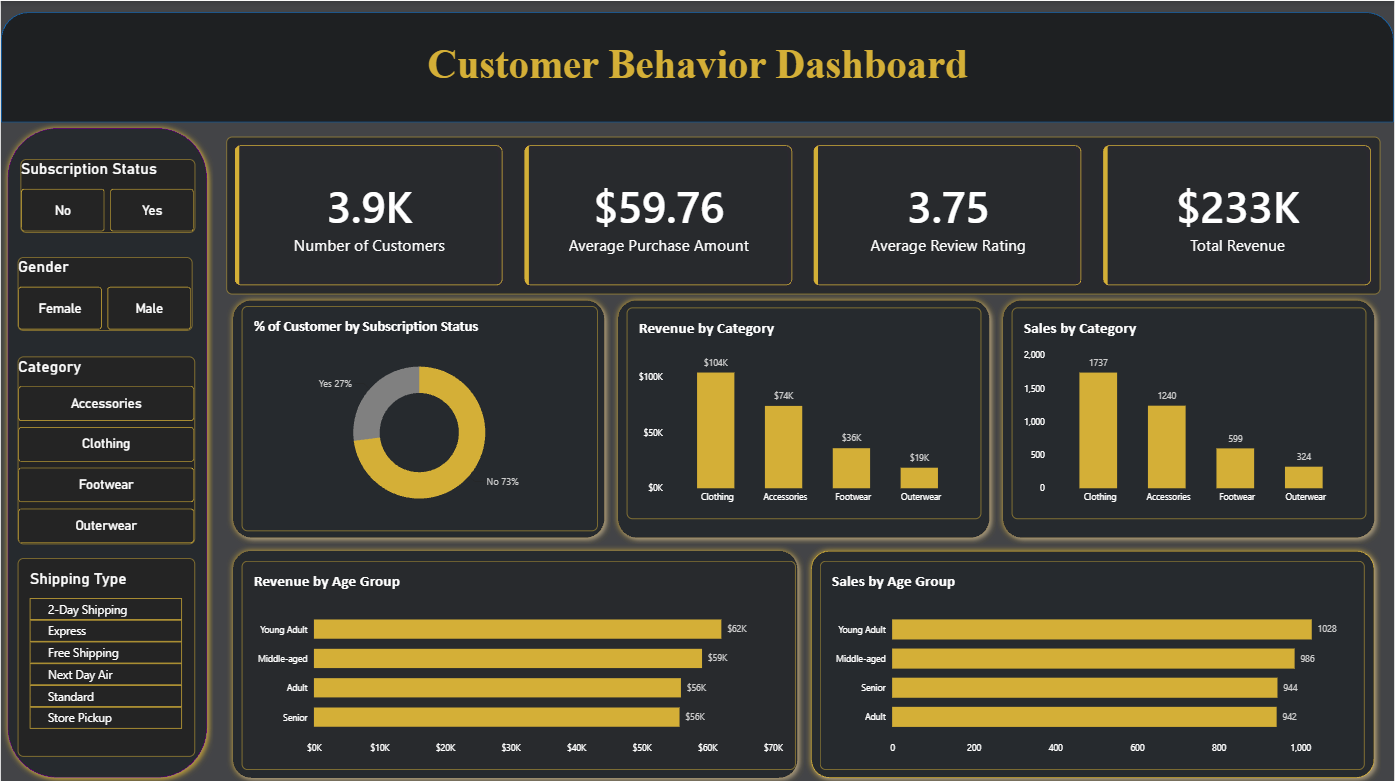

What the dashboard file says about the page in this screenshot:
{"tool":"powerbi","page":{"name":"Page 1","canvas":[1920,1080],"ordinal":0},"visuals":[{"type":"cardVisual","fields":{"Data":["public customer.Number of Customers","public customer.Average Purchase Amount","public customer.Average Review Rating","Sum(public customer.purchase_amount)"]},"box":[310.7,187.2,1592.2,216.2],"z":0},{"type":"shape","box":[0,14.5,1920.1,152],"z":1000},{"type":"textbox","box":[0,55.1,1920.1,82.7],"z":2000},{"type":"shape","box":[310.7,403.4,530.7,345.5],"z":3000},{"type":"donutChart","title":"% of Customer by Subscription Status","fields":{"Category":["public customer.subscription_status"],"Y":["CountNonNull(public customer.customer_id)"]},"box":[331.2,421.7,490.4,310],"z":4000},{"type":"shape","box":[1371.7,403.6,530.2,345.6],"z":5000},{"type":"shape","box":[841.5,403.6,530.2,345.6],"z":6000},{"type":"clusteredColumnChart","title":"Revenue by Category","fields":{"Category":["public customer.category"],"Y":["Sum(public customer.purchase_amount)"]},"box":[863.2,423.5,488.6,291.4],"z":7000},{"type":"clusteredColumnChart","title":"Sales by Category","fields":{"Category":["public customer.category"],"Y":["CountNonNull(public customer.customer_id)"]},"box":[1393.4,423.5,488.6,291.4],"z":8000},{"type":"shape","box":[0,166.5,293.2,913.9],"z":9000},{"type":"advancedSlicerVisual","title":"Subscription Status","fields":{"Values":["public customer.subscription_status"]},"box":[27.1,219,240.7,101.3],"z":10000},{"type":"advancedSlicerVisual","title":"Gender","fields":{"Values":["public customer.gender"]},"box":[23.5,352.9,240.7,101.3],"z":11000},{"type":"advancedSlicerVisual","title":"Category","fields":{"Values":["public customer.category"]},"box":[23.5,490.4,244.3,258.8],"z":12000},{"type":"listSlicer","title":"Shipping Type","fields":{"Values":["public customer.shipping_type"]},"box":[23.5,767.3,244.3,273.3],"z":13000},{"type":"clusteredBarChart","fields":{"Category":["public customer.age_group"],"Y":["Sum(public customer.purchase_amount)"]},"box":[331.2,767.3,655.1,291.4],"z":14000},{"type":"shape","box":[310.7,748.8,797.1,332],"z":15000},{"type":"clusteredBarChart","title":"Revenue by  Age Group","fields":{"Category":["public customer.age_group"],"Y":["Sum(public customer.purchase_amount)"]},"box":[331.2,772.7,763.7,287.7],"z":16000},{"type":"shape","box":[1107.5,749.2,794.4,331.2],"z":17000},{"type":"clusteredBarChart","title":"Sales by  Age Group","fields":{"Category":["public customer.age_group"],"Y":["CountNonNull(public customer.customer_id)"]},"box":[1129.2,772.7,751,287.7],"z":18000}]}

Visuals, with their boxes in screenshot pixels (x1, y1, x2, y2), scaled from the page's 1920x1080 canvas onto the 1395x781 screenshot:
cardVisual - public customer.Number of Customers x public customer.Average Purchase Amount: BBox(226, 135, 1383, 292)
shape: BBox(0, 10, 1394, 120)
textbox: BBox(0, 40, 1394, 100)
shape: BBox(226, 292, 611, 542)
"% of Customer by Subscription Status" donutChart: BBox(241, 305, 597, 529)
shape: BBox(997, 292, 1382, 542)
shape: BBox(611, 292, 997, 542)
"Revenue by Category" clusteredColumnChart: BBox(627, 306, 982, 517)
"Sales by Category" clusteredColumnChart: BBox(1012, 306, 1367, 517)
shape: BBox(0, 120, 213, 780)
"Subscription Status" advancedSlicerVisual: BBox(20, 158, 195, 232)
"Gender" advancedSlicerVisual: BBox(17, 255, 192, 328)
"Category" advancedSlicerVisual: BBox(17, 355, 195, 542)
"Shipping Type" listSlicer: BBox(17, 555, 195, 753)
clusteredBarChart - public customer.age_group x Sum(public customer.purchase_amount): BBox(241, 555, 717, 766)
shape: BBox(226, 541, 805, 780)
"Revenue by  Age Group" clusteredBarChart: BBox(241, 559, 796, 767)
shape: BBox(805, 542, 1382, 780)
"Sales by  Age Group" clusteredBarChart: BBox(820, 559, 1366, 767)
